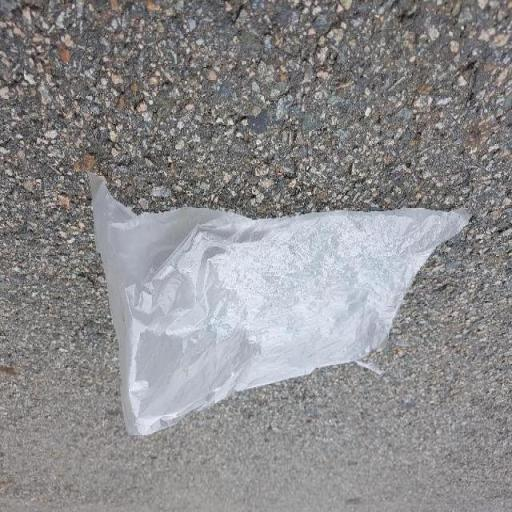plastic-bag: (86, 165, 473, 438)
